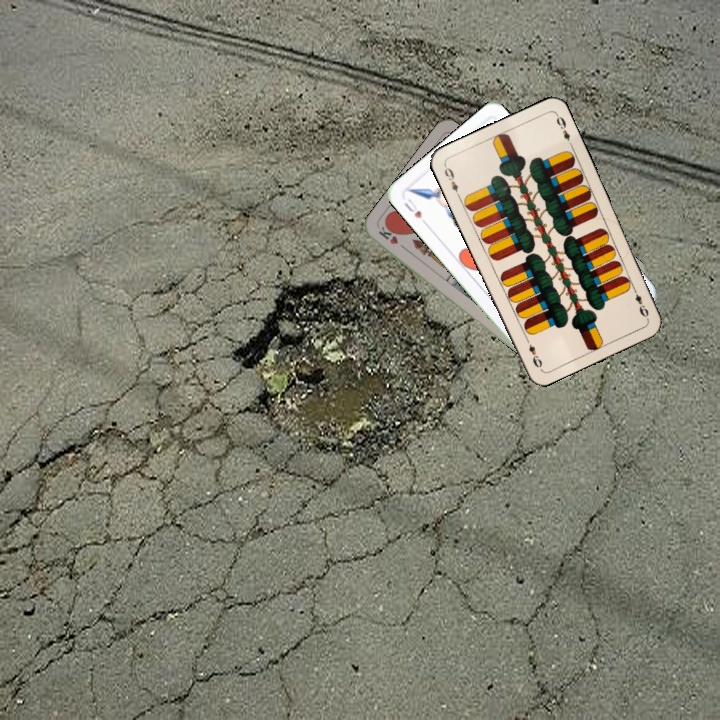E9: (440, 161, 463, 200), (628, 283, 651, 320)
HK: (374, 223, 411, 254)
HU: (400, 195, 424, 221)
